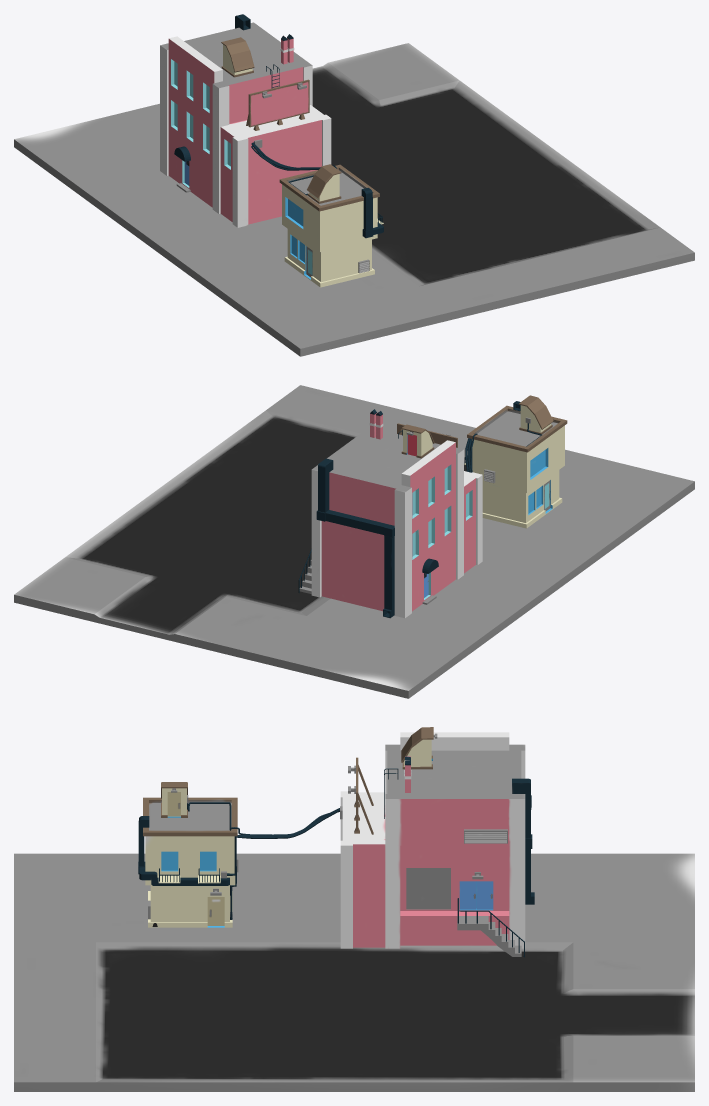
Rendered from Level1_Updated.fbx.
The picture shows the model from 3 angles, top to bottom: view 1: azimuth 30°, elevation 25°; view 2: azimuth 150°, elevation 25°; view 3: azimuth 270°, elevation 25°; orthographic projection. The views are drawn at different scales.
Parts seen in each view (by area): view 1: Floor, Building2, Building1, Bilboard, BuildingTopExit.001, BuildingTopExit, store_ventsystem; view 2: Floor, Building2, Building1, commercial_vent_exit, BuildingTopExit, BuildingTopExit.001; view 3: Floor, Building2, Building1, truckDoor, BuildingTopExit.001, commercial_vent_exit, comm_stairs, store_ventsystem, WIRE, VENT.002, BuildingTopExit.
Part boxes in pixels (x1,y1,x2,y2): Floor: (14,43,694,356); Building2: (160,22,331,227); Building1: (279,164,379,287); Bilboard: (246,79,309,130); BuildingTopExit.001: (221,37,254,77); BuildingTopExit: (307,164,341,203); store_ventsystem: (361,187,383,238); Floor: (14,385,694,698); Building2: (311,427,482,618); Building1: (467,405,567,528); commercial_vent_exit: (316,458,394,618); BuildingTopExit: (518,395,553,434); BuildingTopExit.001: (401,424,434,458); Floor: (14,853,694,1091); Building2: (340,732,525,948); Building1: (143,797,237,927); truckDoor: (406,868,450,909); BuildingTopExit.001: (401,727,433,769); commercial_vent_exit: (512,778,534,904); comm_stairs: (457,916,521,956); store_ventsystem: (138,816,229,885); WIRE: (227,808,339,919); VENT.002: (464,829,507,843); BuildingTopExit: (161,782,187,817).
Bounding box in the file's own units: 6458 × 2543 × 8119.
